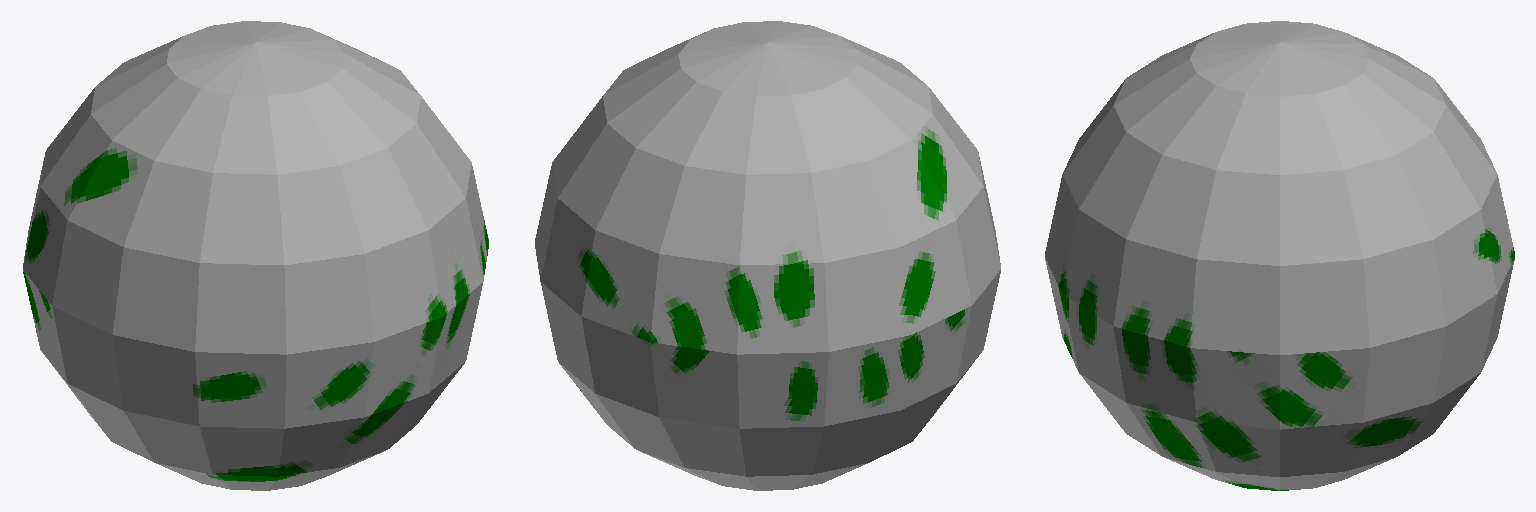
The picture shows the model from 3 angles: view 1: azimuth 30°, elevation 25°; view 2: azimuth 150°, elevation 25°; view 3: azimuth 270°, elevation 25°; orthographic projection.
Parts seen in each view (by area): view 1: Sphere_Sphere.002; view 2: Sphere_Sphere.002; view 3: Sphere_Sphere.002.
Part boxes in pixels (bbox=[...]): Sphere_Sphere.002: bbox=[23, 21, 488, 490]; Sphere_Sphere.002: bbox=[535, 21, 1000, 490]; Sphere_Sphere.002: bbox=[1045, 21, 1514, 490].
Bounding box in the file's own units: 2 × 2 × 2.
1 materials, 1 textured.